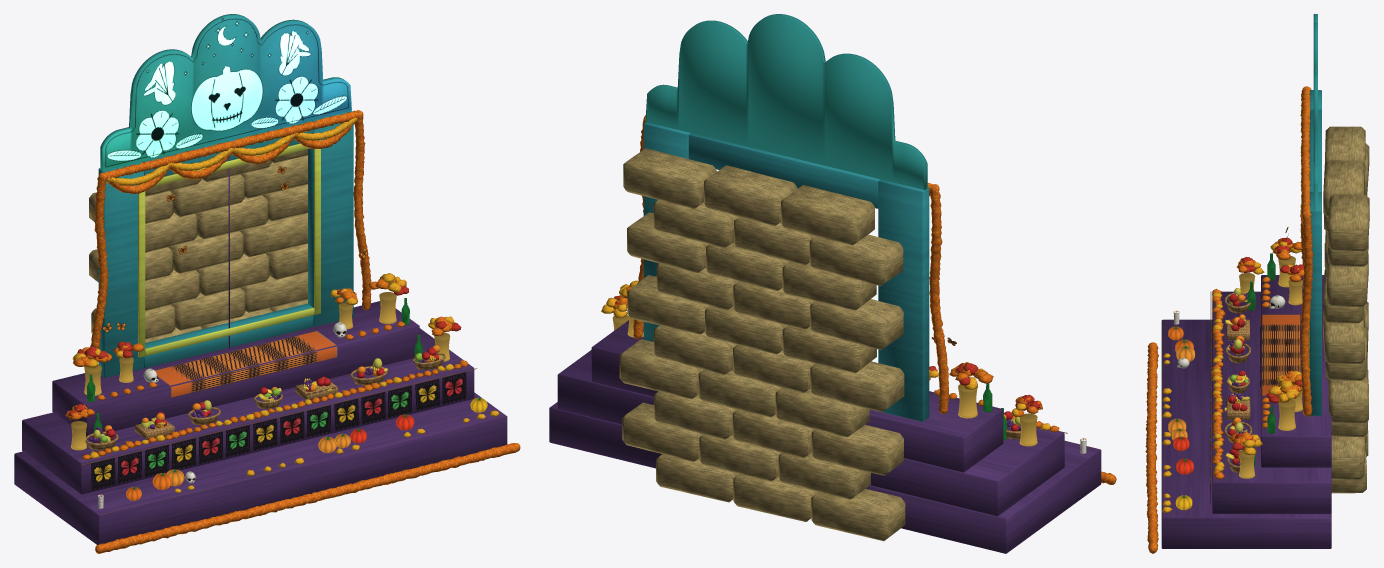
Rendered from ofrenda.glb.
The picture shows the model from 3 angles, left to right: view 1: azimuth 30°, elevation 25°; view 2: azimuth 150°, elevation 25°; view 3: azimuth 270°, elevation 25°; orthographic projection. The views are drawn at different scales.
Parts seen in each view (by area): view 1: ofrenda, crest; view 2: ofrenda, crest; view 3: ofrenda, crest.
Boxes of the visible parts, x1=… form: ofrenda: x1=14, y1=110, x2=520, y2=553; crest: x1=100, y1=14, x2=351, y2=171; ofrenda: x1=549, y1=115, x2=1116, y2=553; crest: x1=645, y1=14, x2=927, y2=189; ofrenda: x1=1145, y1=86, x2=1369, y2=553; crest: x1=1313, y1=14, x2=1317, y2=210.
Size of the model in its own units: 5.61 by 5.41 by 2.58.
Materials: 6 (5 with a texture image).
